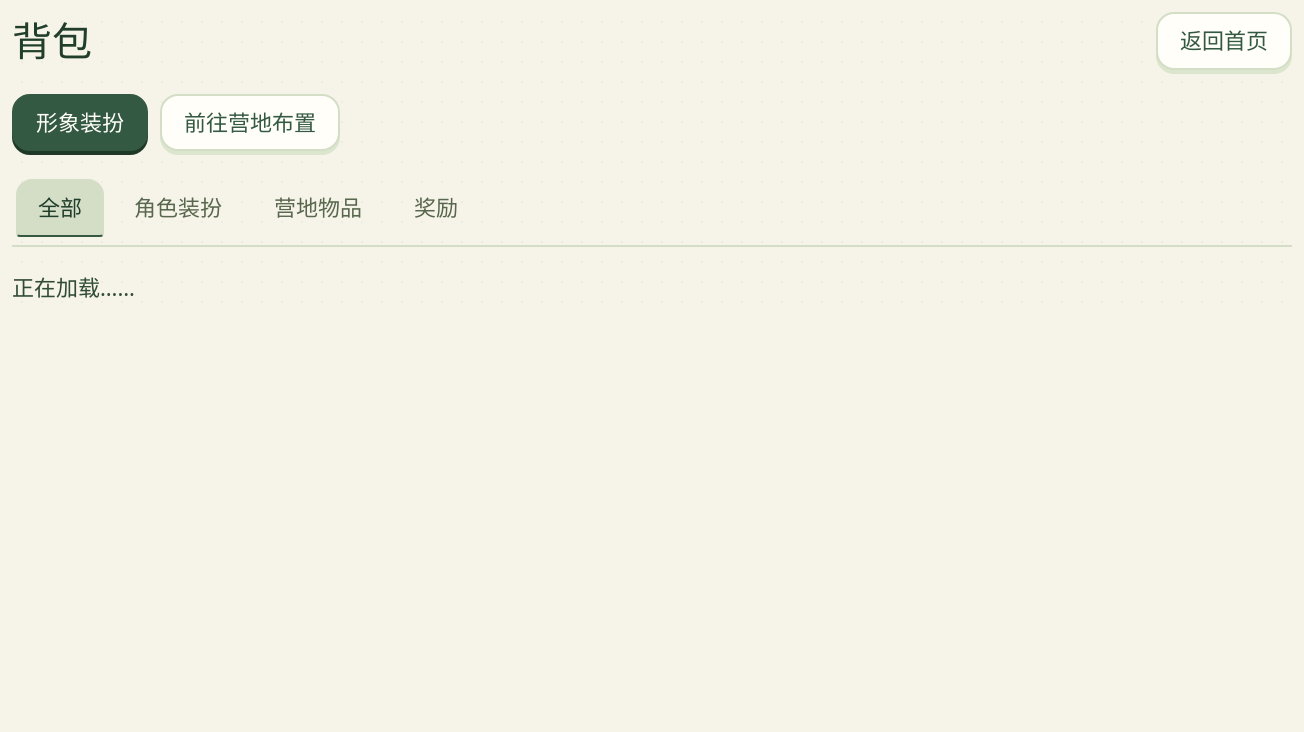
Scenario: 背包分类与奖励 › 发型使用饰品查询且保留后续分页，不因第一页没有匹配项宣称为空
Click the tab "角色装扮" at point(178, 208), box [112,179,244,237]
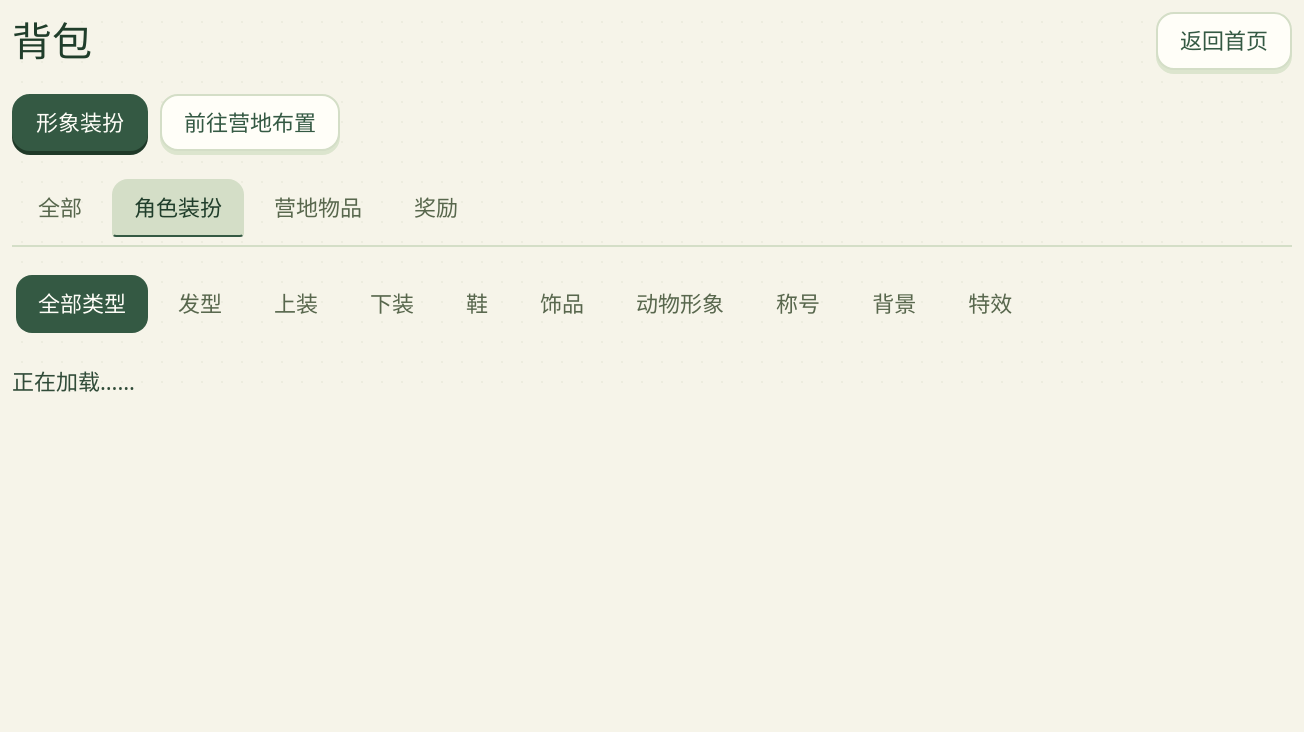
Click the tab "发型" at point(200, 304), box [156,275,244,333]
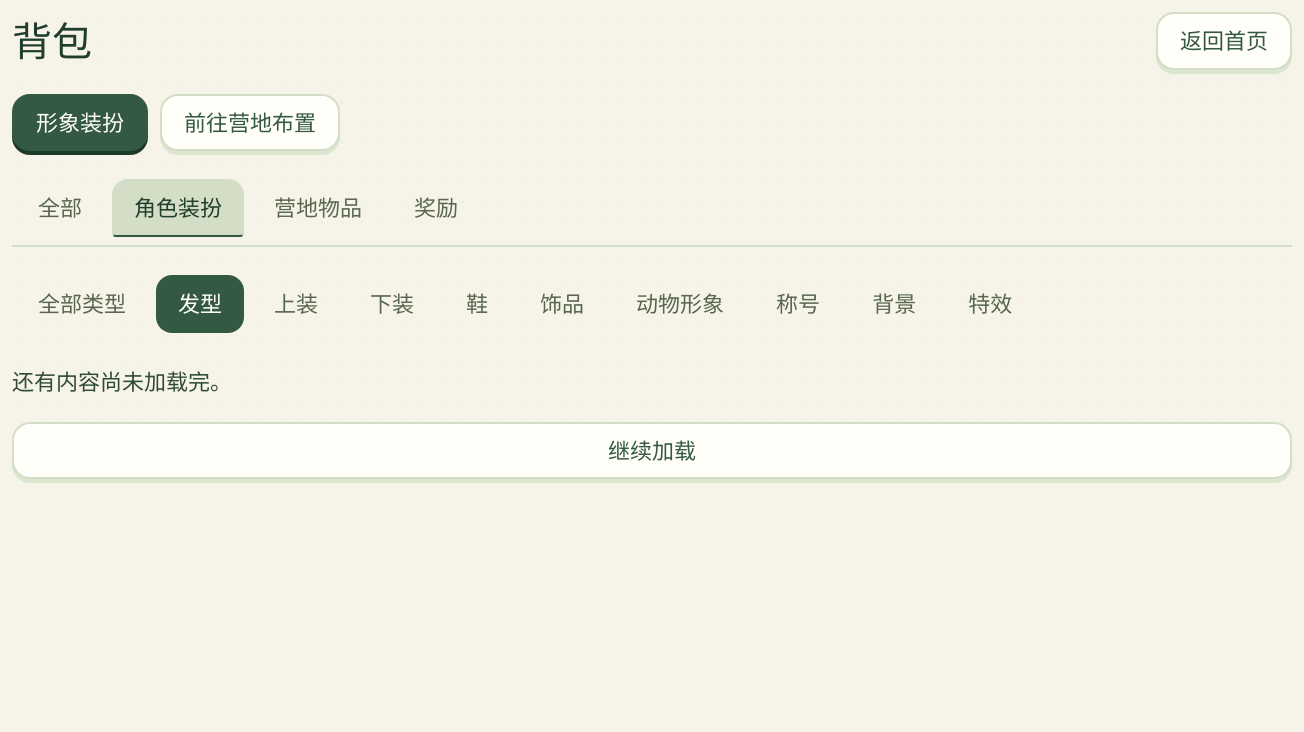
Now the text "还有内容尚未加载完。" is shown, box [12,366,232,396]
Click the button "继续加载" at point(652, 451), box [12,422,1292,480]
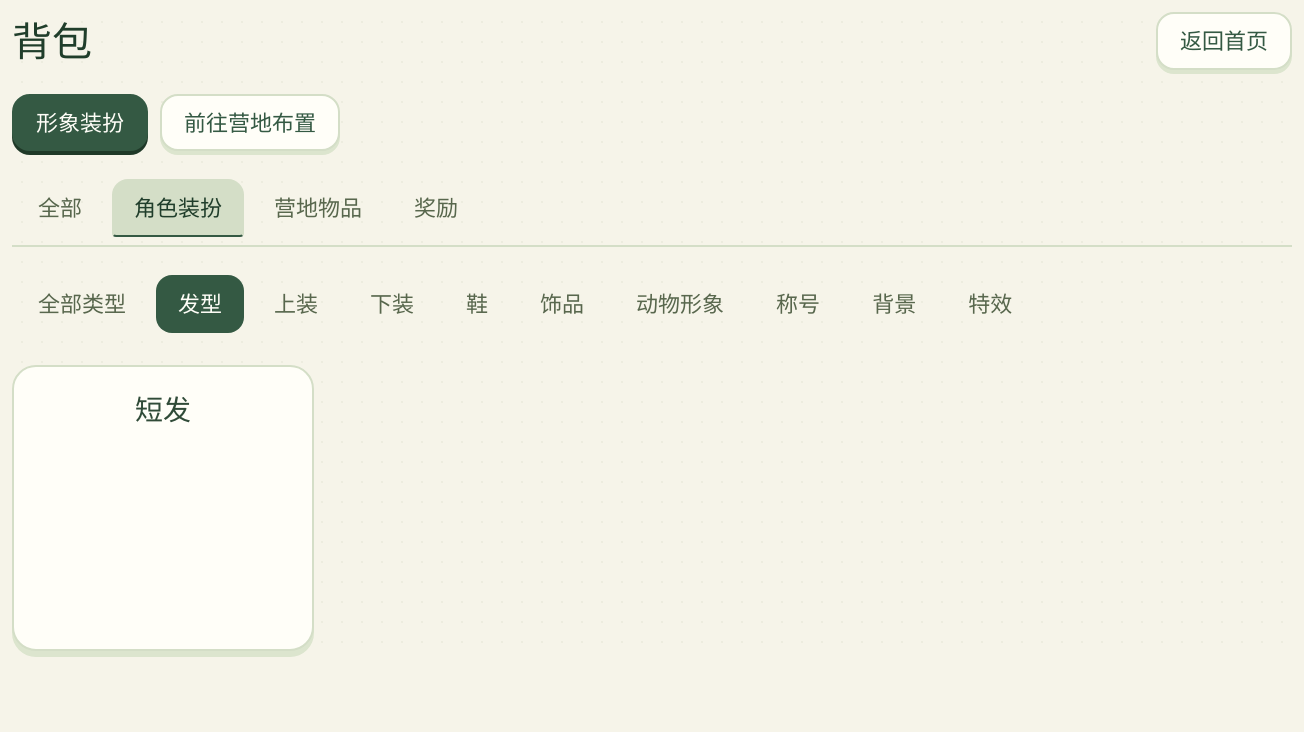
Now the heading "短发" is shown, box [135,390,191,428]
